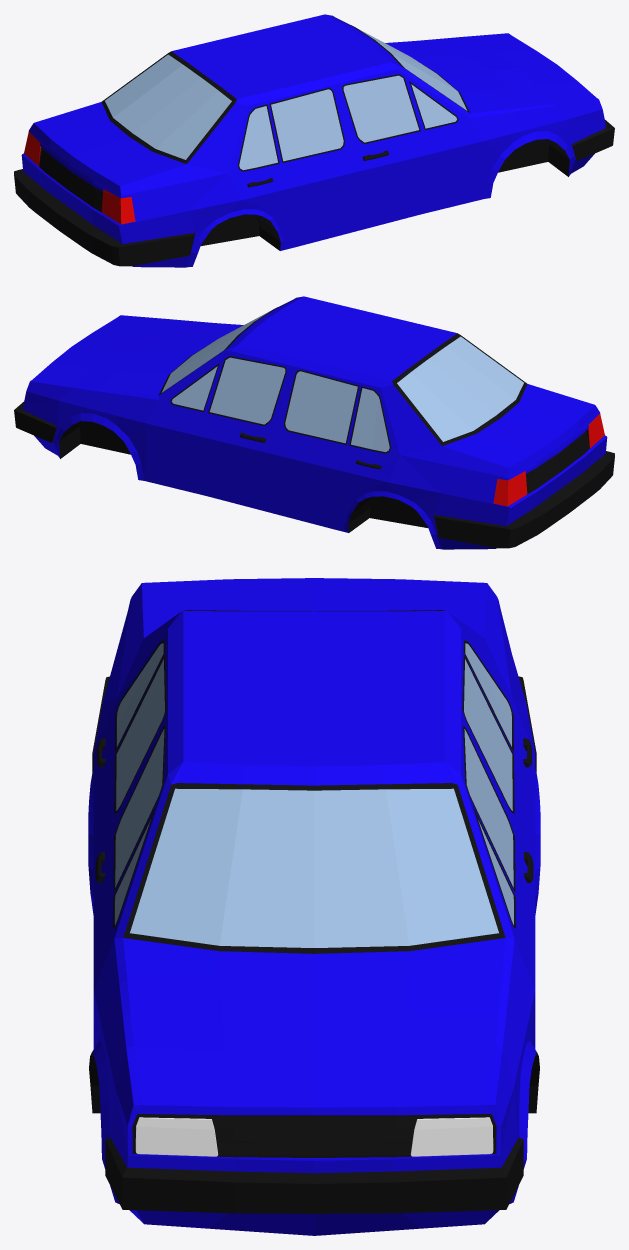
Rendered from jetta2.fbx.
3 views of the same model, one above another, from view 1: azimuth 30°, elevation 25°; view 2: azimuth 150°, elevation 25°; view 3: azimuth 270°, elevation 25° (orthographic). The views are drawn at different scales.
Visible parts, largest first — view 1: jetta 2; view 2: jetta 2; view 3: jetta 2.
Part boxes in pixels (x1,y1,x2,y2): jetta 2: (14,14,614,267); jetta 2: (14,296,614,549); jetta 2: (88,578,540,1235).
Bounding box in the file's own units: 307 × 83.04 × 117.
